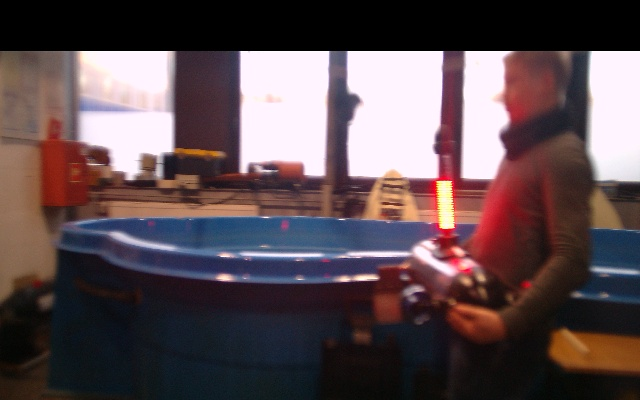red: (435, 179, 454, 232)
